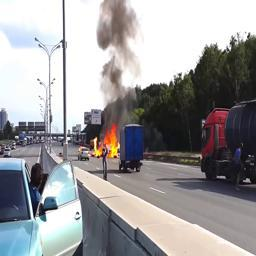fire: (94, 123, 119, 159)
